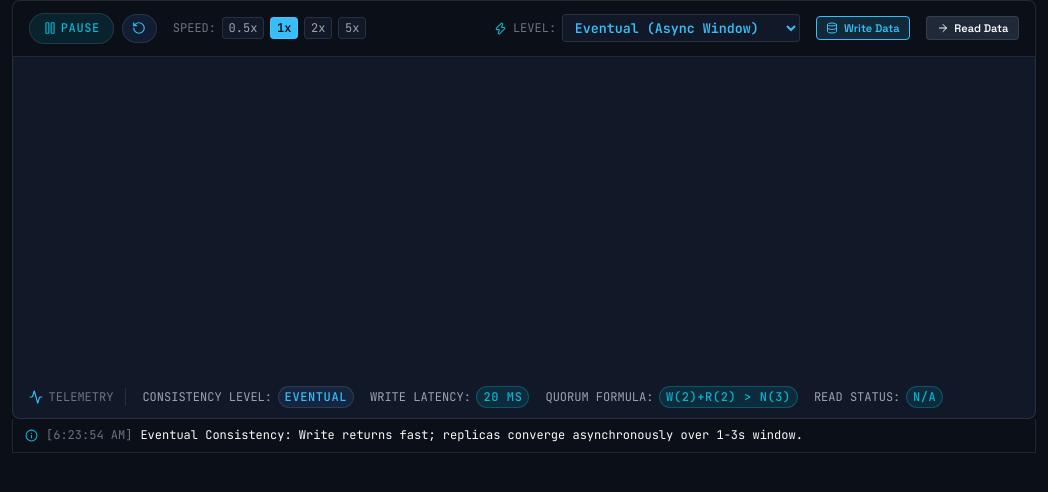
Test case: ConsistencyVisualizer (Catalog Viz #6) › handles Write Data button click in Eventual mode
Click the button "Write Data". click: (863, 28)
box: [816,16,910,40]
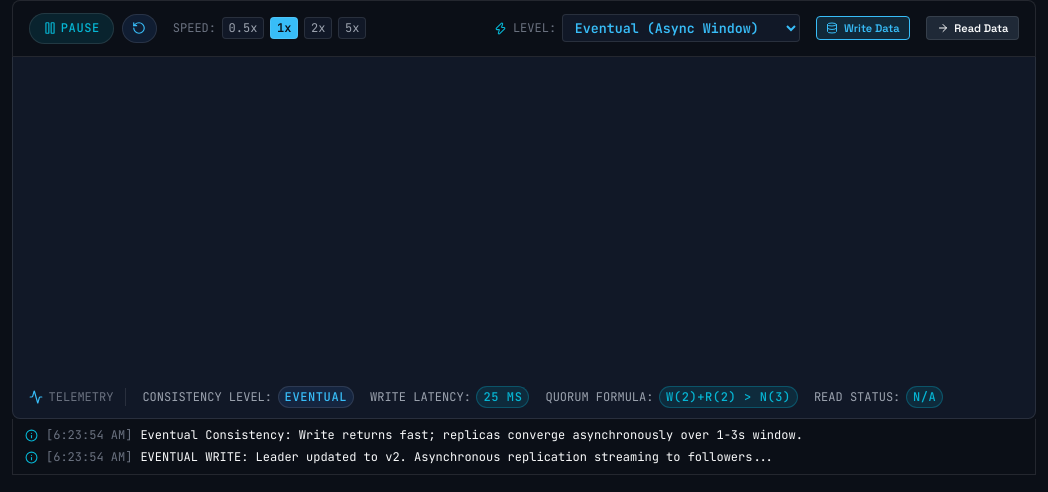
Expected: the text "EVENTUAL WRITE: Leader updated to v2" is shown, [140,449,774,465]
